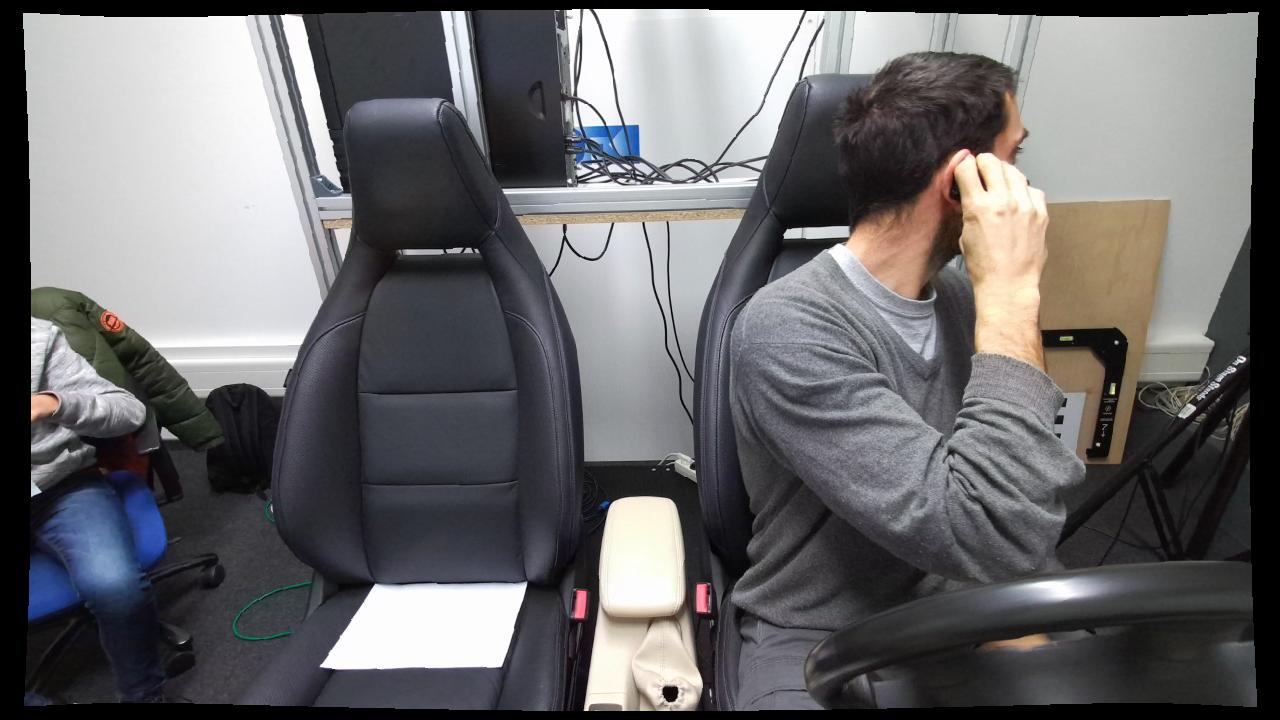Distracted: (727, 50, 1099, 712)
PhoneUse: (928, 134, 1013, 239)
